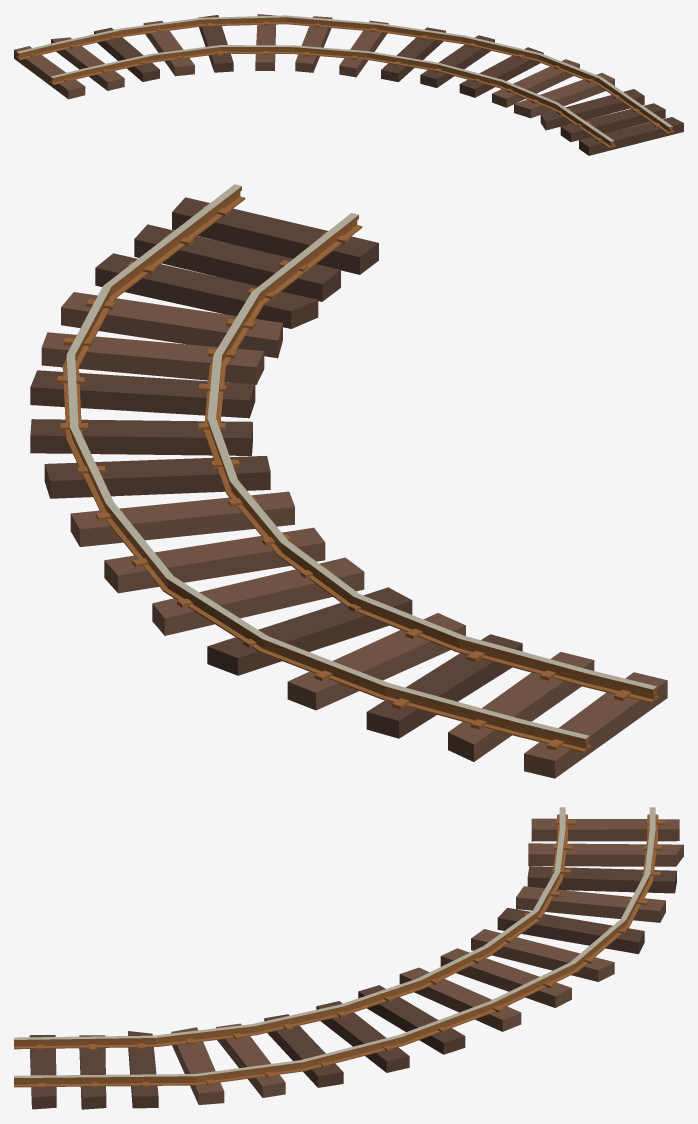
File: Train Track 10 M Curve.glb
3 renders of one model, top to bottom at view 1: azimuth 30°, elevation 25°; view 2: azimuth 150°, elevation 25°; view 3: azimuth 270°, elevation 25°, orthographic. The views are drawn at different scales.
Parts seen in each view (by area): view 1: Train Track 10 M Curve; view 2: Train Track 10 M Curve; view 3: Train Track 10 M Curve.
Part boxes in pixels (x1,y1,x2,y2): Train Track 10 M Curve: (14, 14, 683, 155); Train Track 10 M Curve: (30, 184, 667, 778); Train Track 10 M Curve: (14, 807, 683, 1109).
Size of what is drawn, in the model's own units: 10.39 by 0.3385 by 10.41.
Materials: 1 (1 with a texture image).
